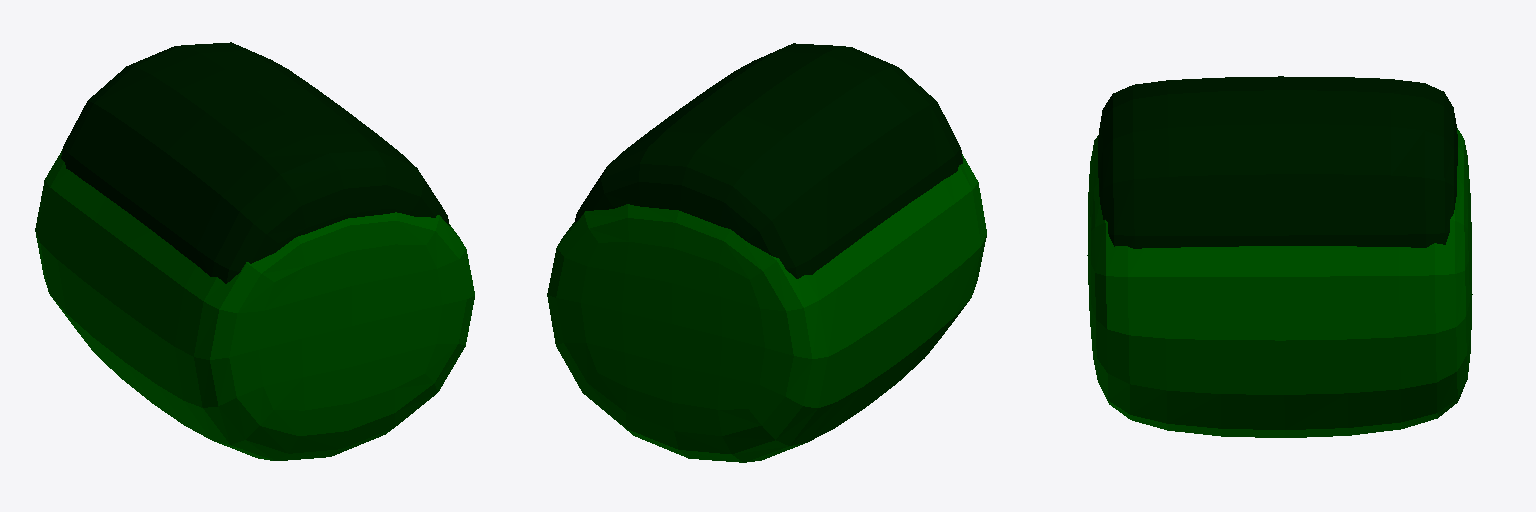
The model's file is worm_body.obj.
3 renders of one model, left to right at view 1: azimuth 30°, elevation 25°; view 2: azimuth 150°, elevation 25°; view 3: azimuth 270°, elevation 25°, orthographic.
Parts seen in each view (by area): view 1: Cube, Cube.002; view 2: Cube, Cube.002; view 3: Cube, Cube.002.
Boxes of the visible parts, x1=… form: Cube: x1=35, y1=149, x2=474, y2=460; Cube.002: x1=61, y1=42, x2=449, y2=283; Cube: x1=547, y1=154, x2=986, y2=462; Cube.002: x1=575, y1=43, x2=962, y2=278; Cube: x1=1087, y1=128, x2=1472, y2=437; Cube.002: x1=1098, y1=76, x2=1457, y2=248.
Bounding box in the file's own units: 1.25 × 1.43 × 1.5.